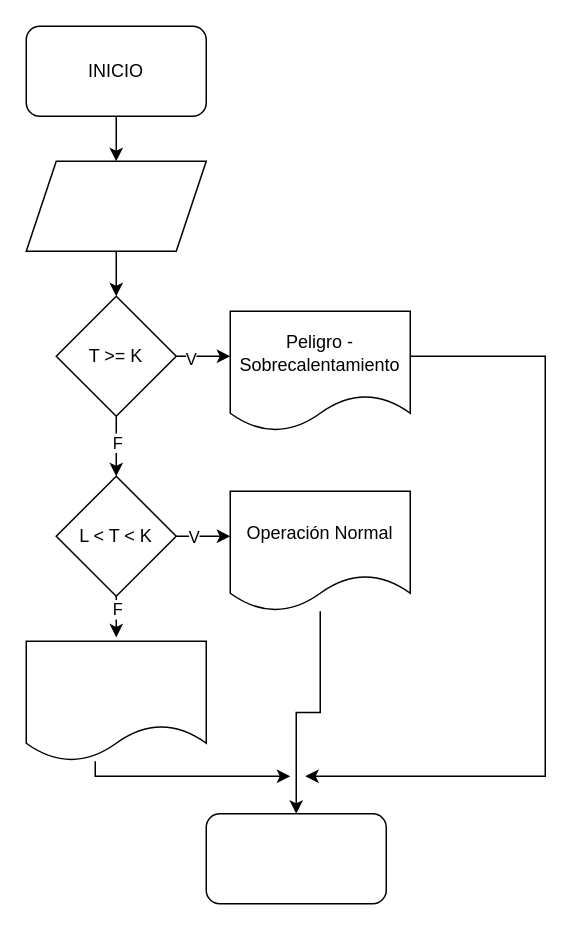
The diagram is 584 pixels wide and 930 high, and some of its shapes have lost their labels. Each missing label, with the centre of its shape:
"FIN" belongs at (x=295, y=858).
"K, L y T" belongs at (x=115, y=205).
"Motor Frío - Calentar antes de operar" belongs at (x=115, y=700).
